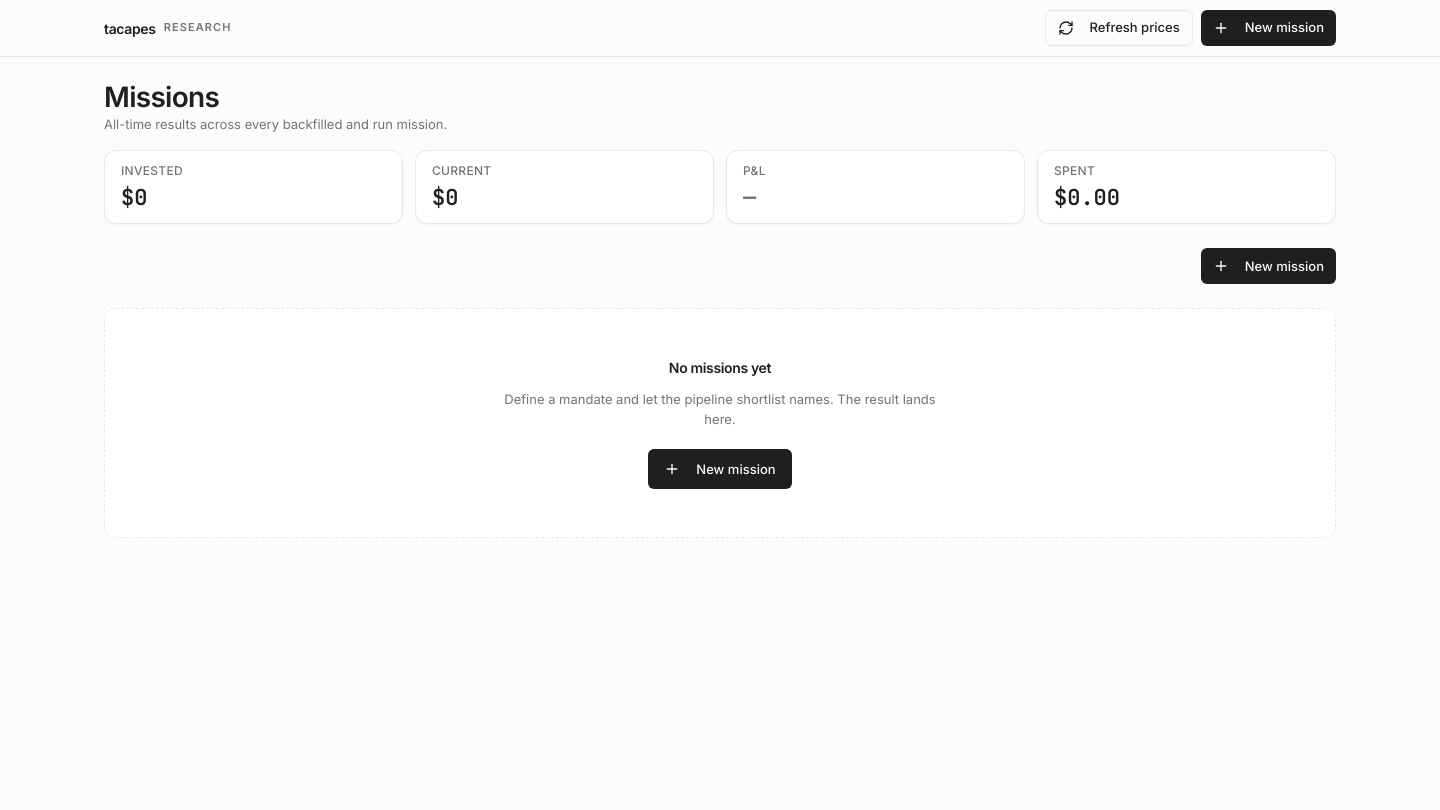
MissionListPage › blocks the create form when the statement is too short
Expected: the element with test id "empty-state" is shown, [104,308,1336,538]
Click the button with test id "list-new-mission": (1268, 266) [1201,248,1336,284]
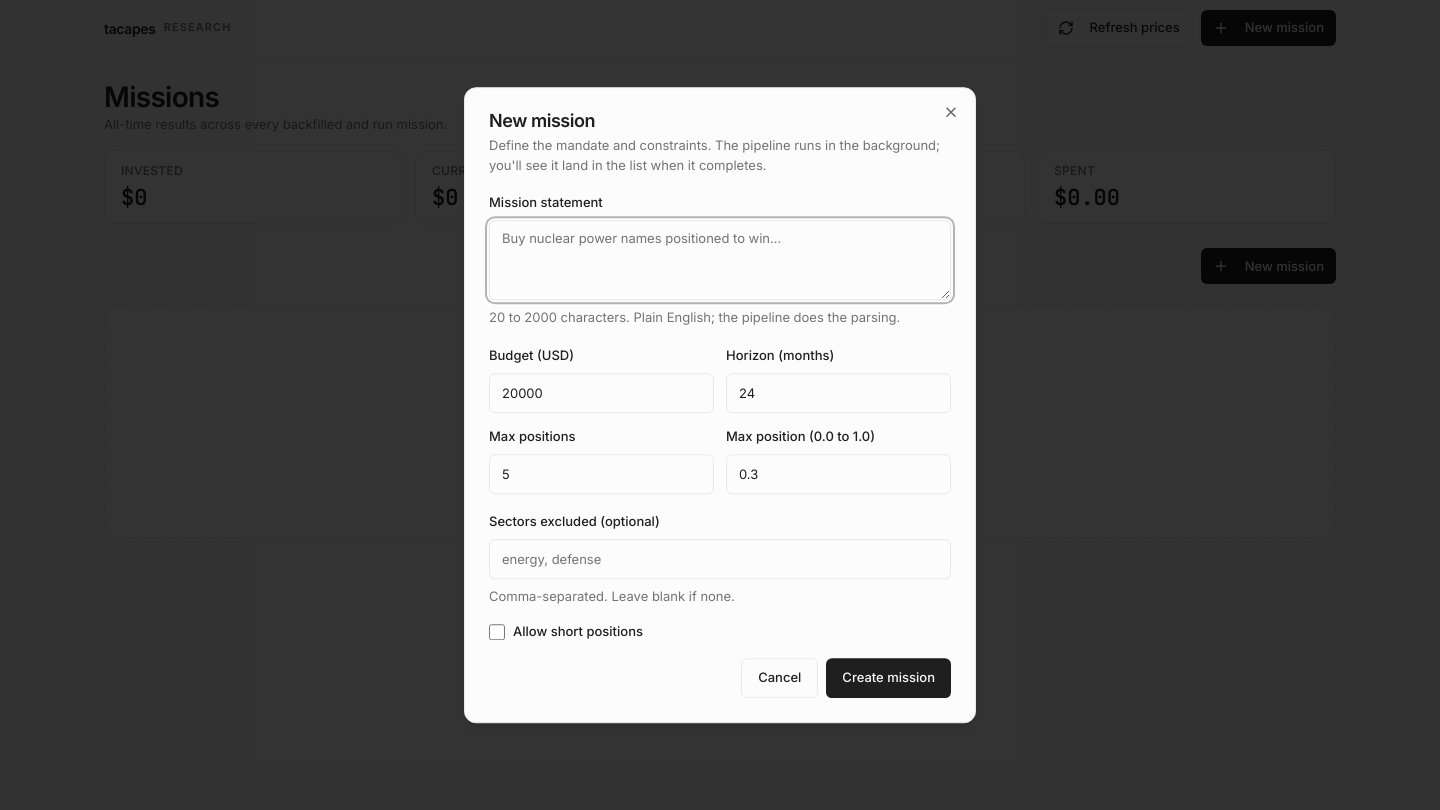
In the text box labelled "Mission statement": (720, 260) [489,220,951,300], type "too short"
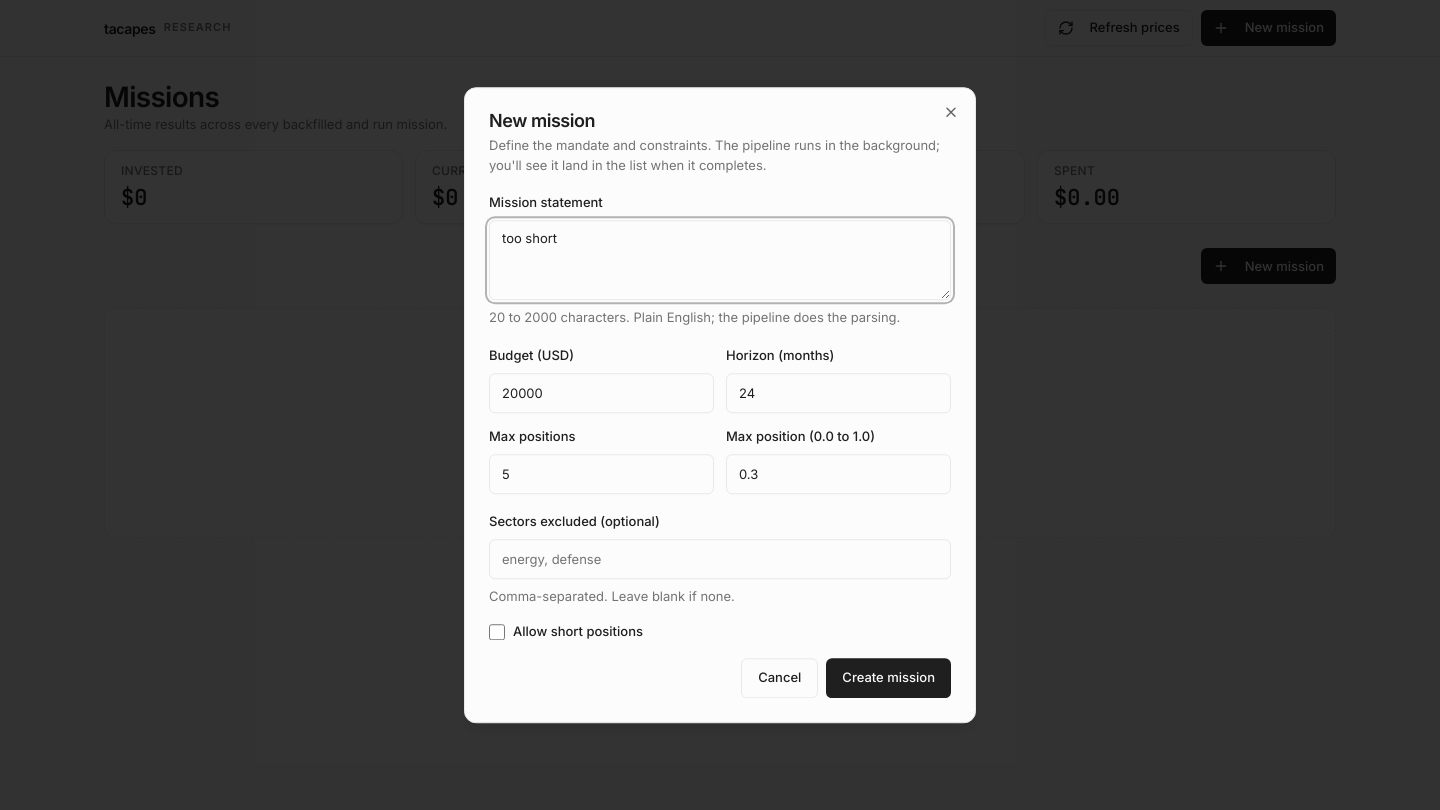
Click the button "Create mission": (889, 678) [826,658,951,698]
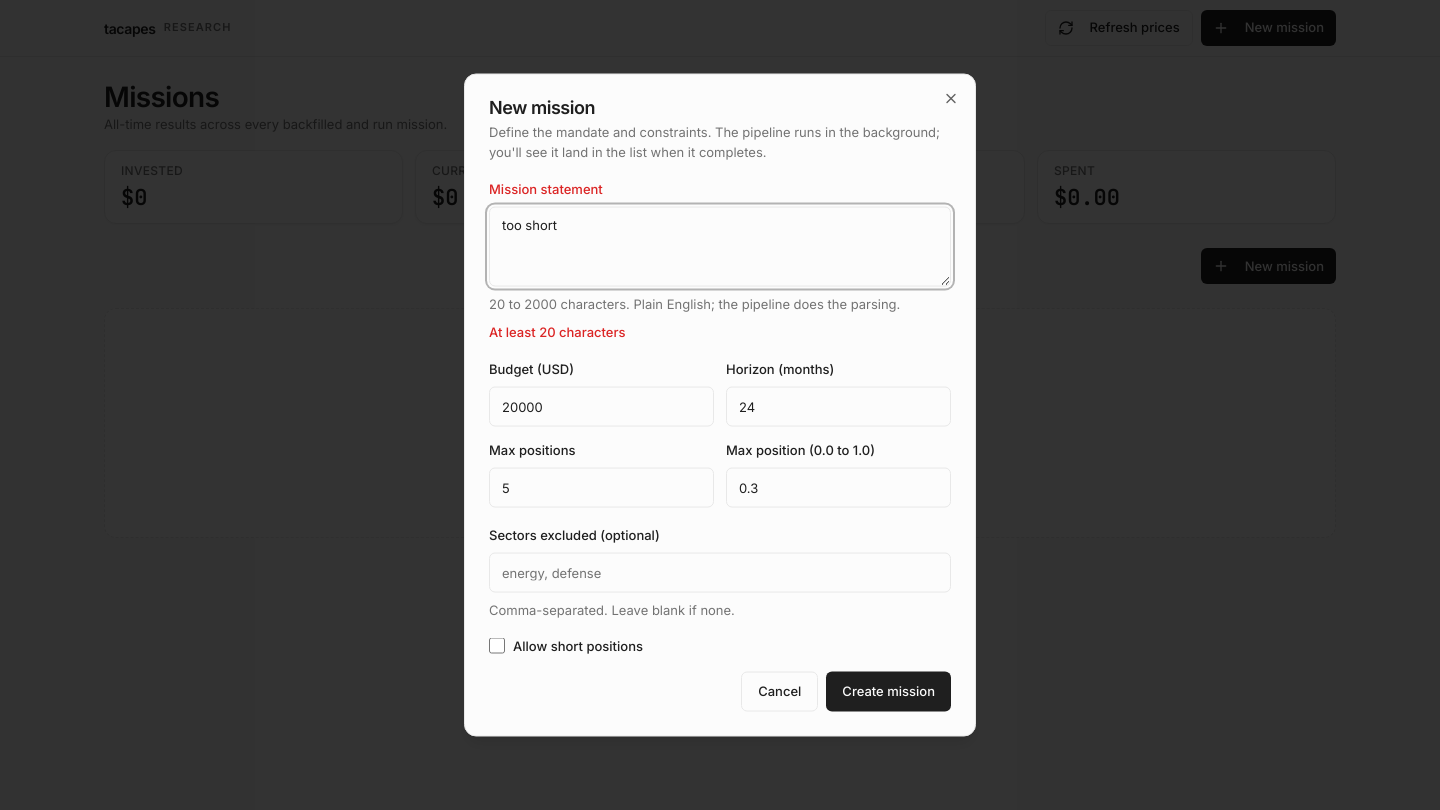
Now the text "At least 20 characters" is shown, box [489,323,626,339]
